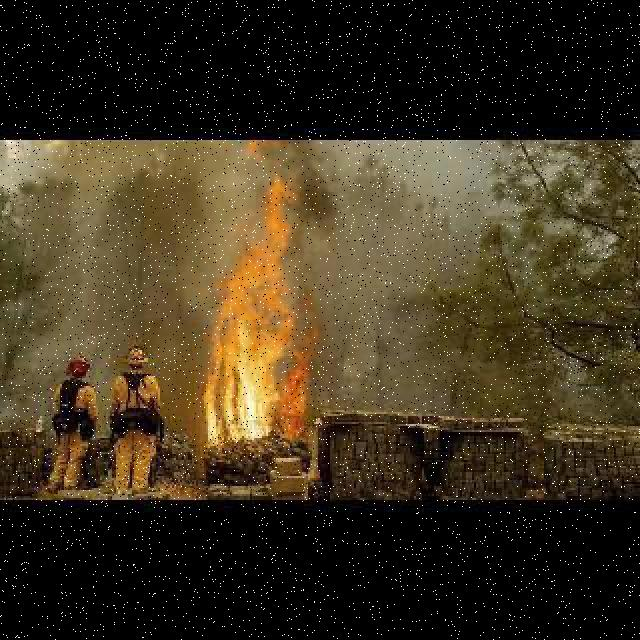fire: (215, 213, 312, 451)
smoke: (314, 153, 472, 396), (40, 144, 196, 361)
